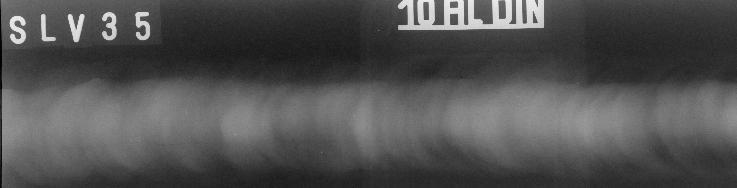FF: (7, 68, 737, 94), (7, 163, 737, 185)
FP: (4, 133, 456, 155)
